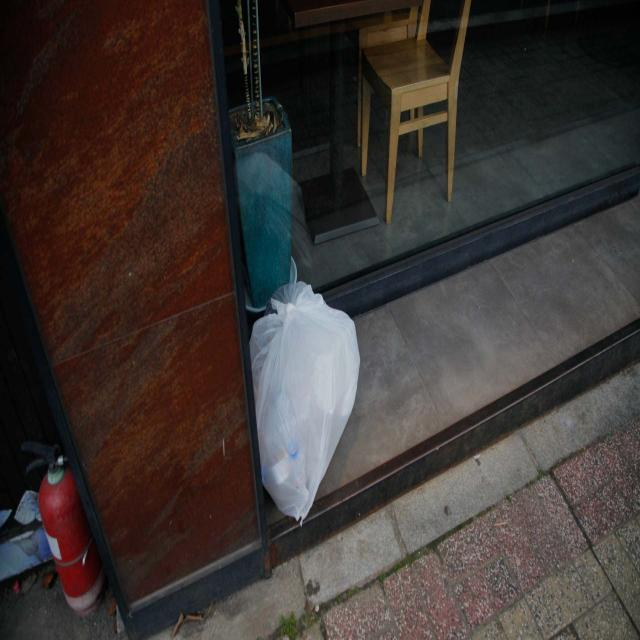garbage bag: (248, 278, 361, 526)
